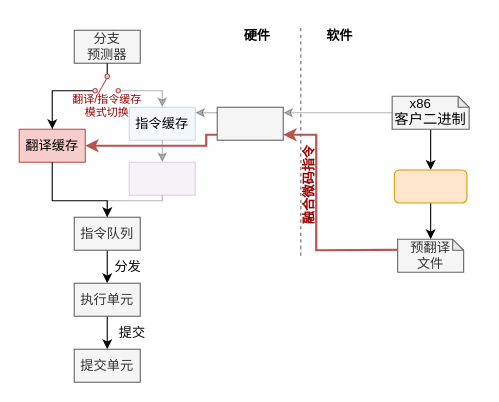
Some shapes in this 499 by 402 pixel diagram are drawn without their labels. Here are the shapes that lost their labels. From the top down, the centre of each, then its label:
point 249,123: 内存层次
point 161,178: 译码器
point 430,186: x86二进制翻译器
